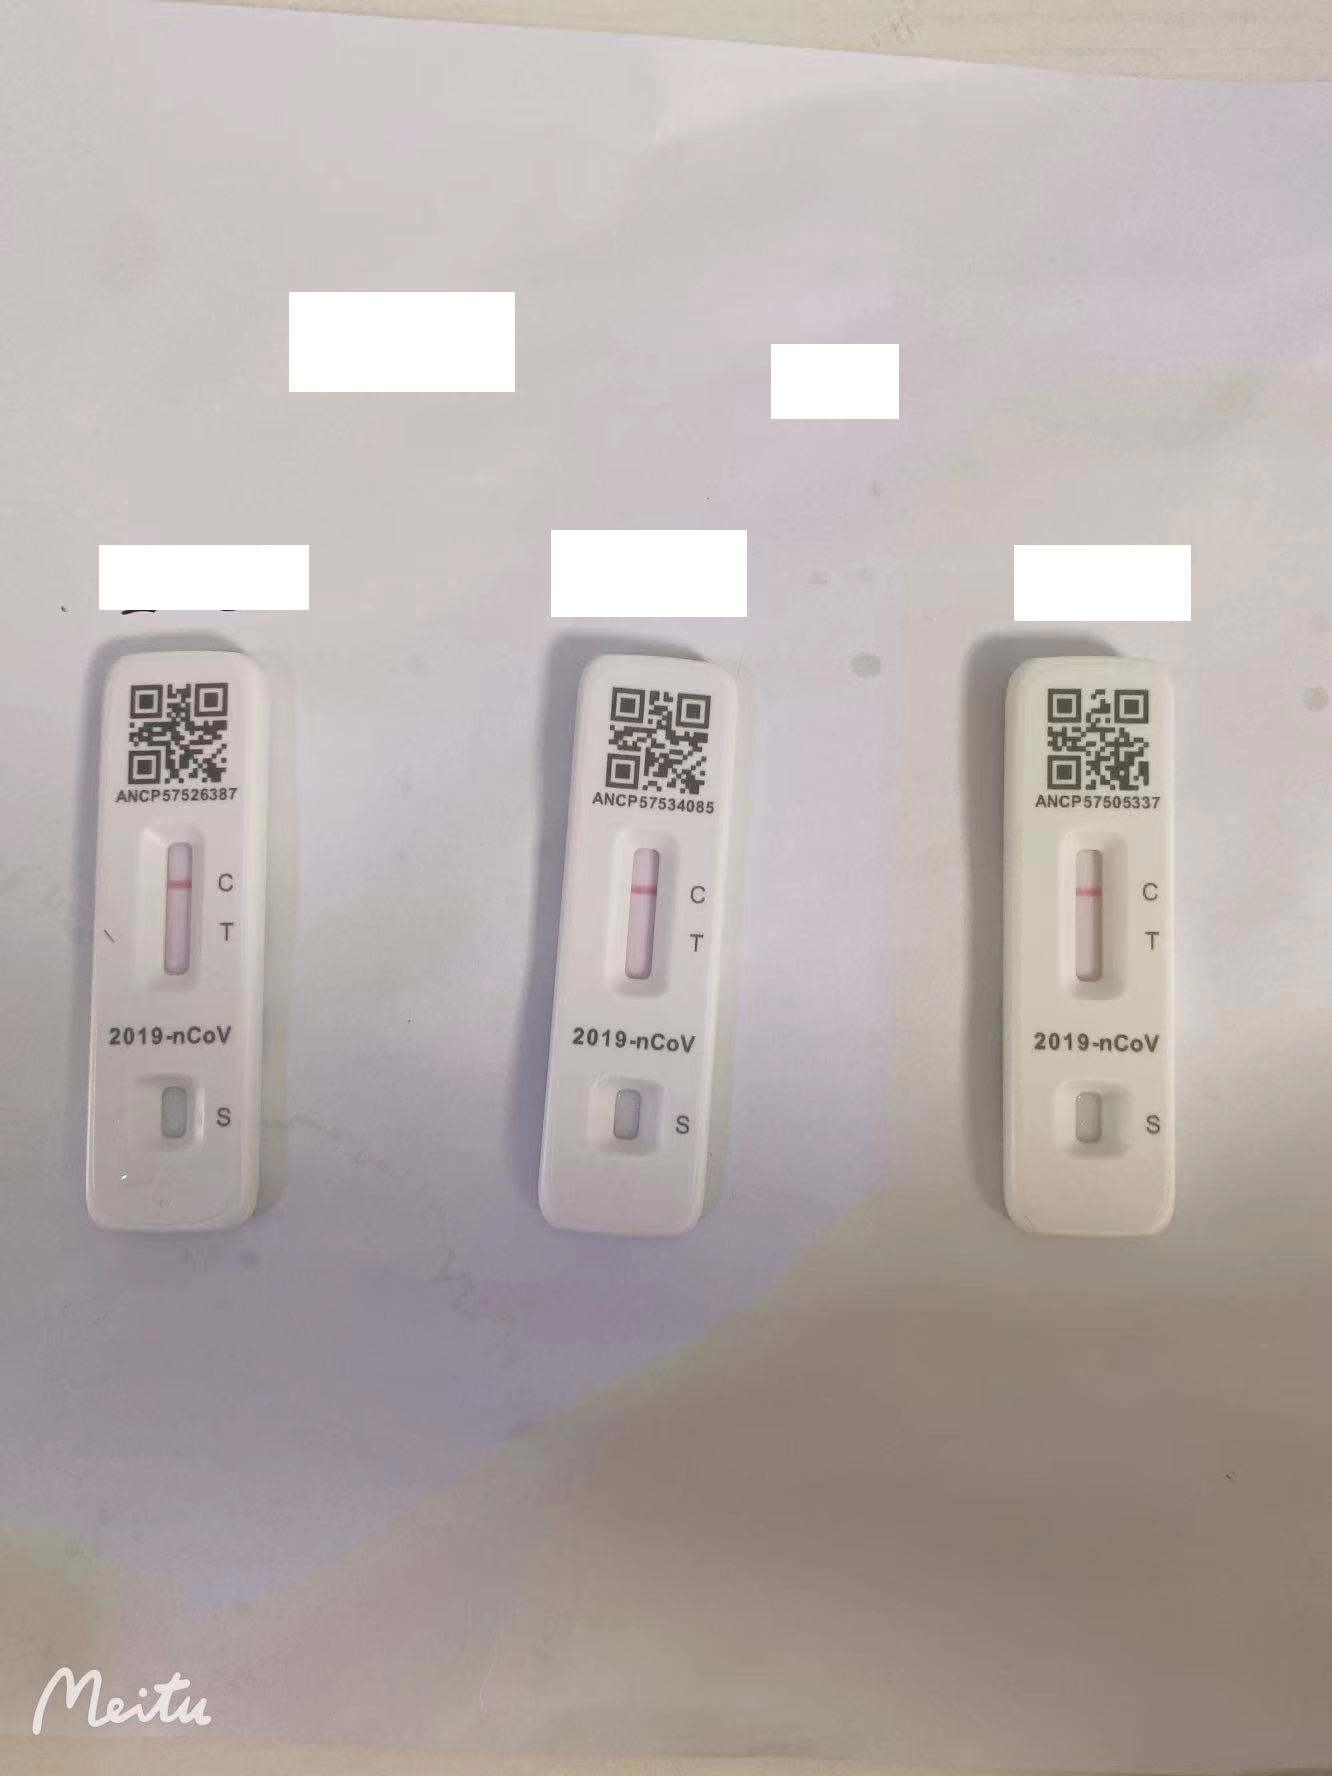negative: (1061, 829, 1124, 1001), (613, 831, 670, 991), (146, 825, 201, 983)
